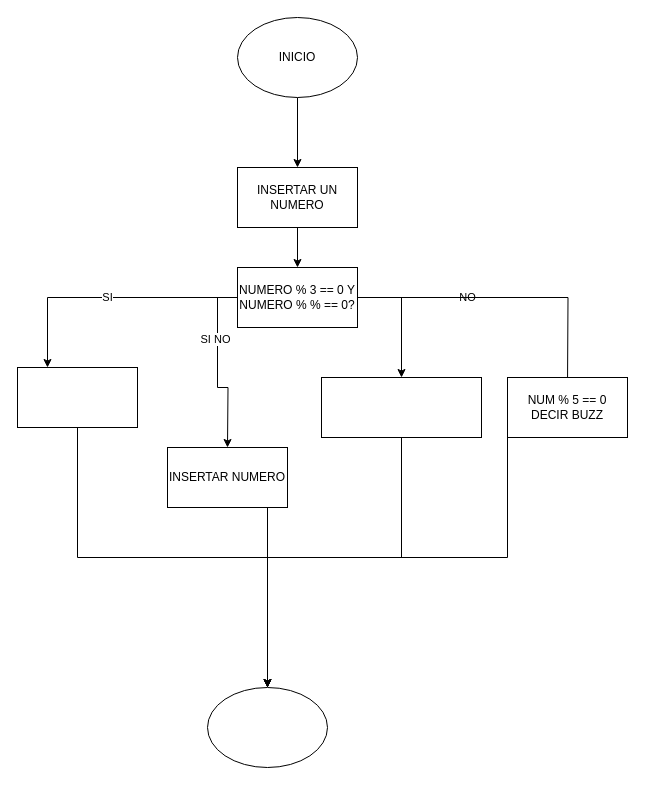
The diagram is 645 pixels wide and 785 high, and some of its shapes have lost their labels. The centre of each missing label's shape, as x and y in pixels:
DECIR "FIZZBUZZ": point (77, 397)
FIN: point (267, 727)
NUM % 3 == 0 DECIR FIZZ: point (401, 407)
